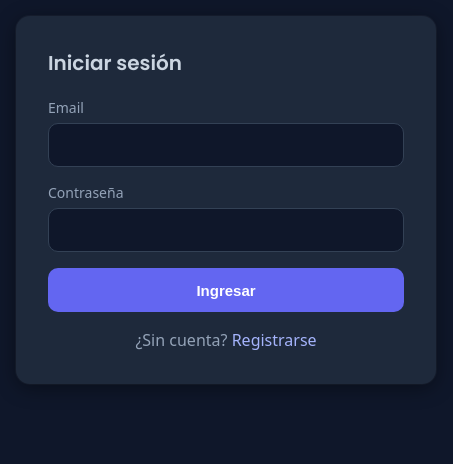
Test: LoginPage › muestra mensaje de error cuando el login falla
The width and height of the screenshot is (453, 464).
Type "wrong@test.com" into the field labelled "Email". click: (226, 145)
box: x1=48 y1=123 x2=404 y2=167
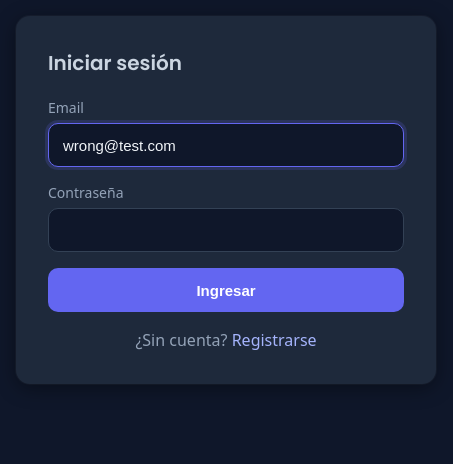
Type "wrongpass" into the password field labelled "Contraseña". click: (226, 230)
box: x1=48 y1=208 x2=404 y2=252
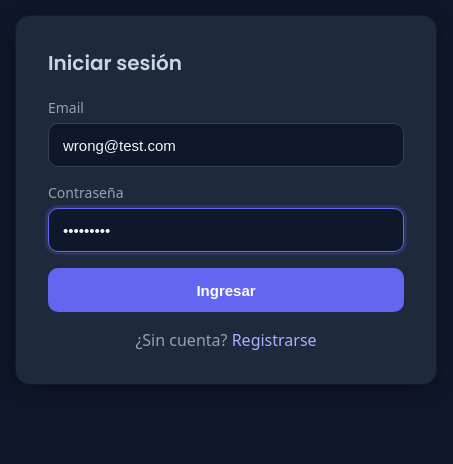
Click the button "Ingresar". click: (226, 290)
box: x1=48 y1=268 x2=404 y2=312
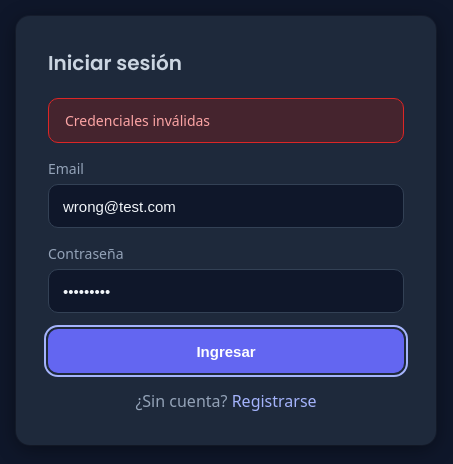
Result: the text "Credenciales inválidas" is shown at x1=48 y1=98 x2=404 y2=143
